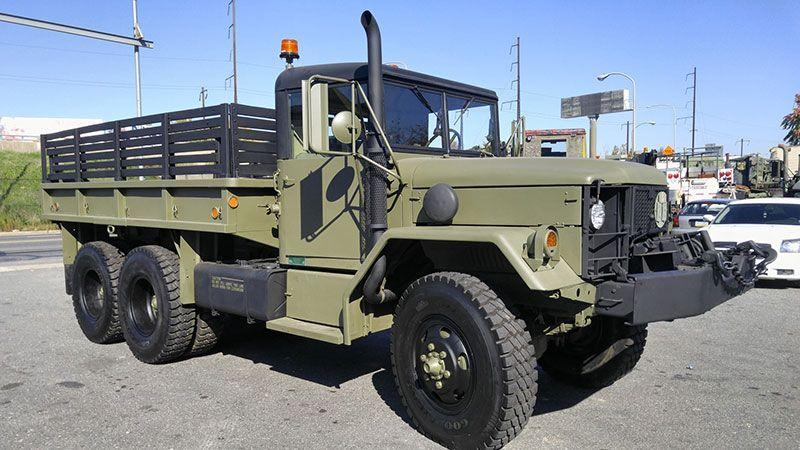ambulance: (44, 62, 668, 447)
